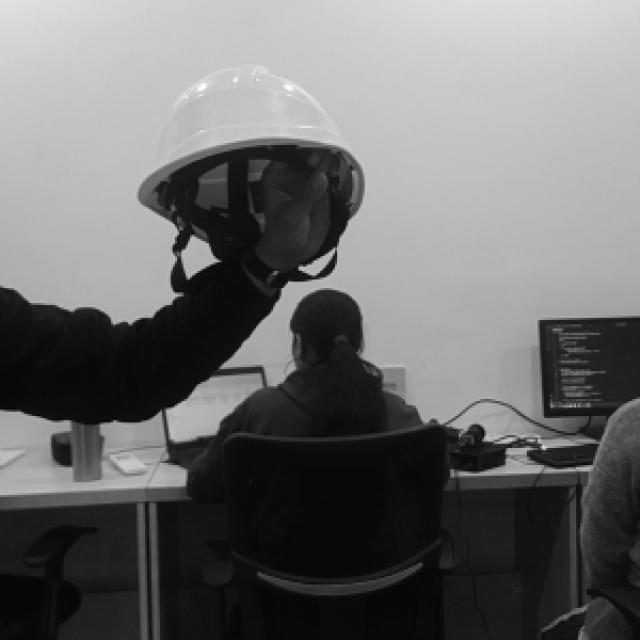safety_helmet: (136, 67, 362, 204)
